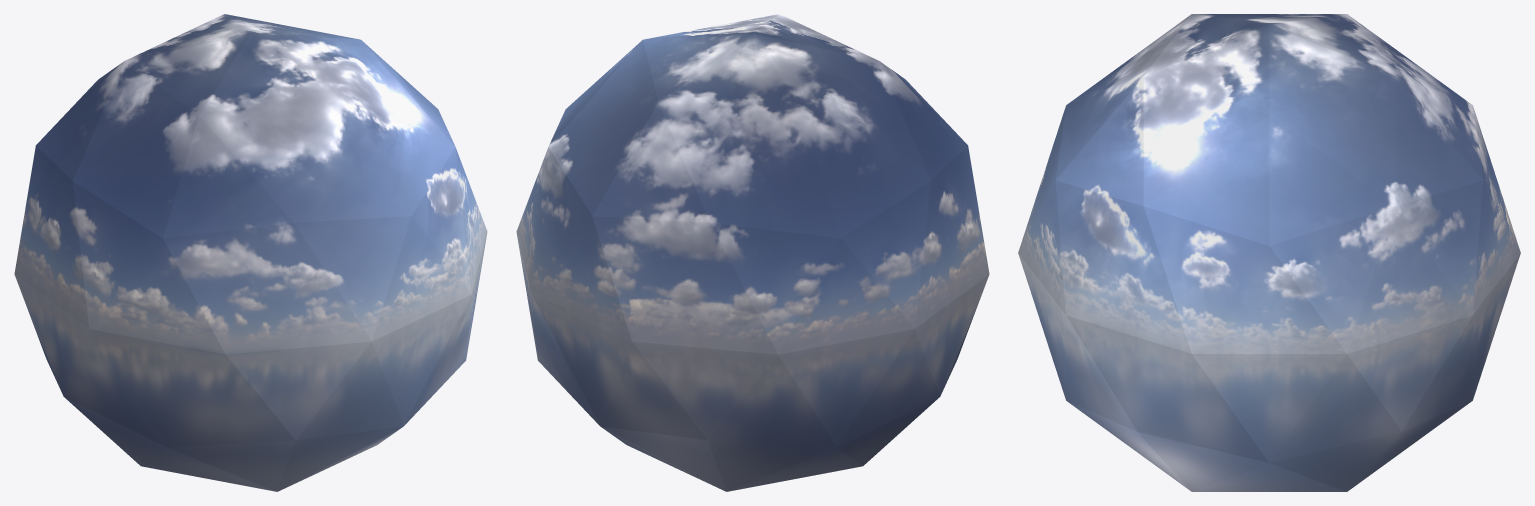
Rendered from sky.glb.
3 views of the same model, side by side, from view 1: azimuth 30°, elevation 25°; view 2: azimuth 150°, elevation 25°; view 3: azimuth 270°, elevation 25° (orthographic). The views are drawn at different scales.
Visible parts, largest first — view 1: Icosphere; view 2: Icosphere; view 3: Icosphere.
Boxes of the visible parts, bbox=[...] form: Icosphere: bbox=[14, 14, 487, 491]; Icosphere: bbox=[516, 14, 989, 491]; Icosphere: bbox=[1018, 14, 1520, 491].
Bounding box in the file's own units: 1.9 × 2 × 2.
Materials: 1 (1 with a texture image).
